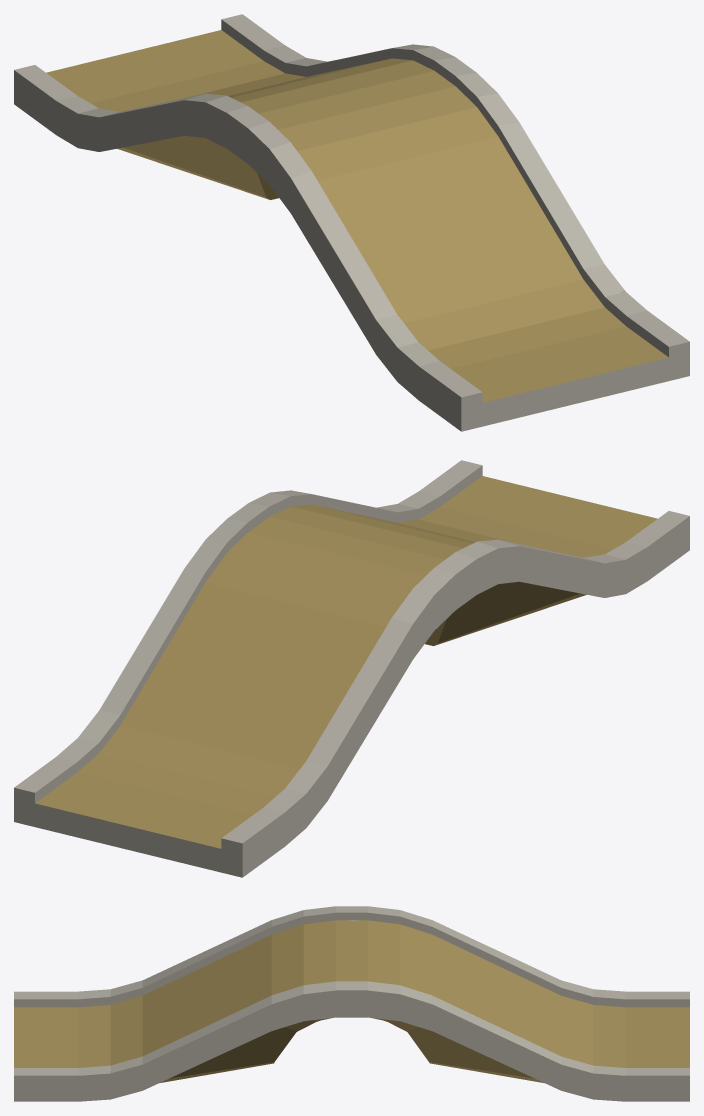
Rendered from tam_kopru.fbx.
3 renders of one model, top to bottom at view 1: azimuth 30°, elevation 25°; view 2: azimuth 150°, elevation 25°; view 3: azimuth 270°, elevation 25°, orthographic. The views are drawn at different scales.
Visible parts, largest first — view 1: Plane.001; view 2: Plane.001; view 3: Plane.001.
Part boxes in pixels (x1,y1,x2,y2): Plane.001: (14,14,689,431); Plane.001: (14,460,689,877); Plane.001: (14,906,689,1101).
Size of the model in its own units: 9.44 by 5.88 by 32.
1 material, 1 textured.
